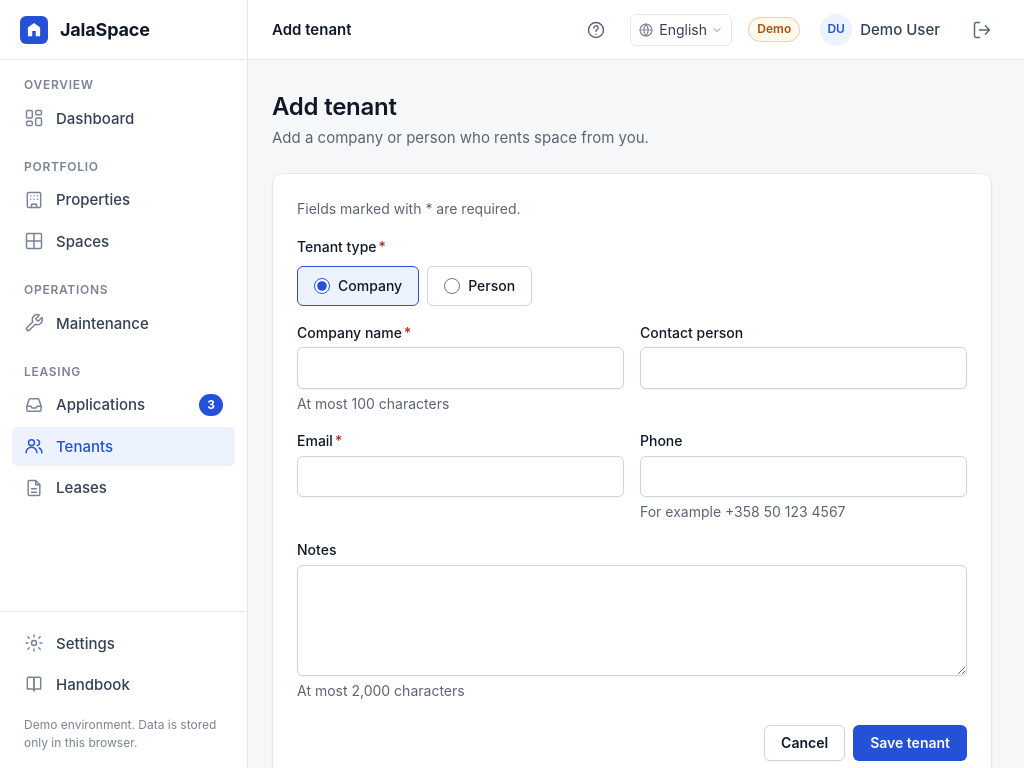
it: tenants › keeps the input when storage fails
The width and height of the screenshot is (1024, 768).
Step 1. Type "Bakery Esimerkki Oy" into the field labelled "Company name*" → point(460, 368), box [297,347,624,389]
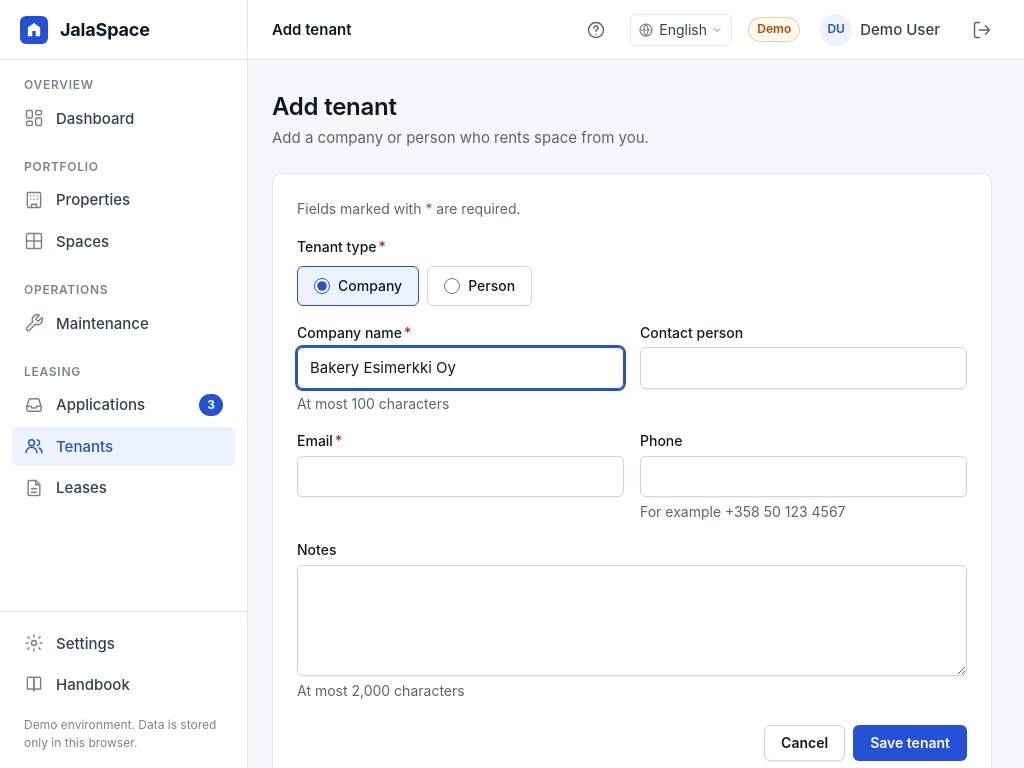
Step 2. Type "hello@bakery-esimerkki.example" into the field labelled "Email*" → point(460, 477), box [297,456,624,497]
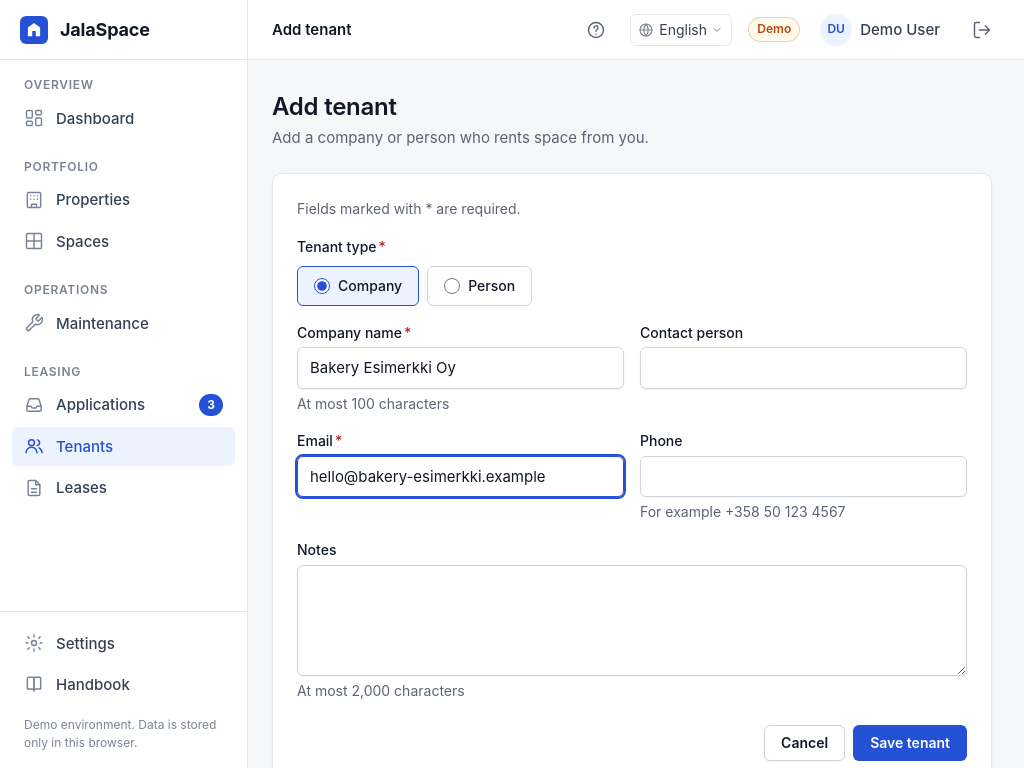
Step 3. Click the button "Save tenant" → point(910, 743), box [853,725,967,761]
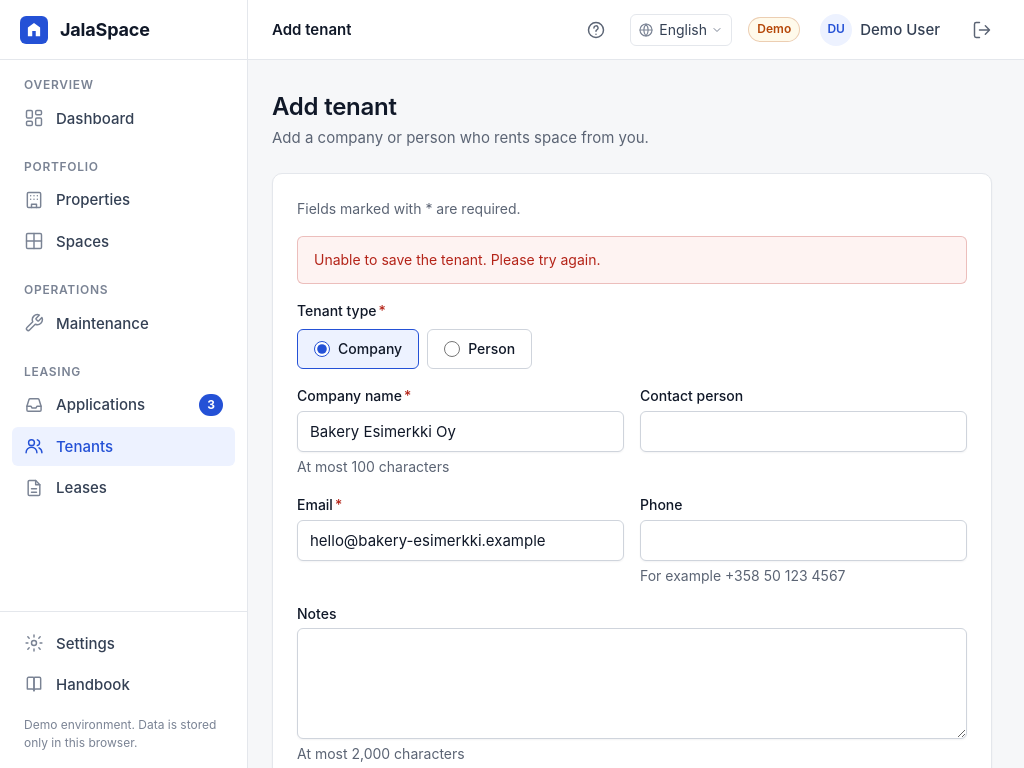
Expected: the text "Unable to save the tenant. Please try again." is shown, [297,236,967,284]
